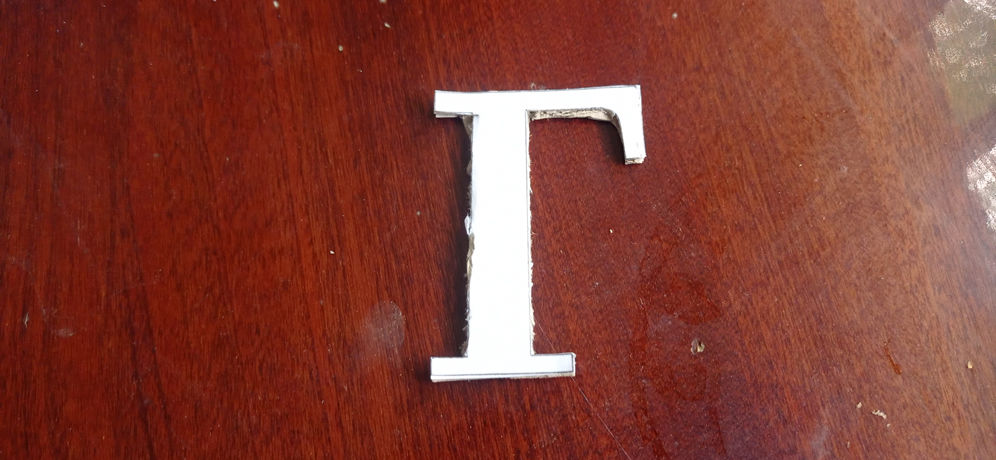g: (426, 84, 648, 383)
